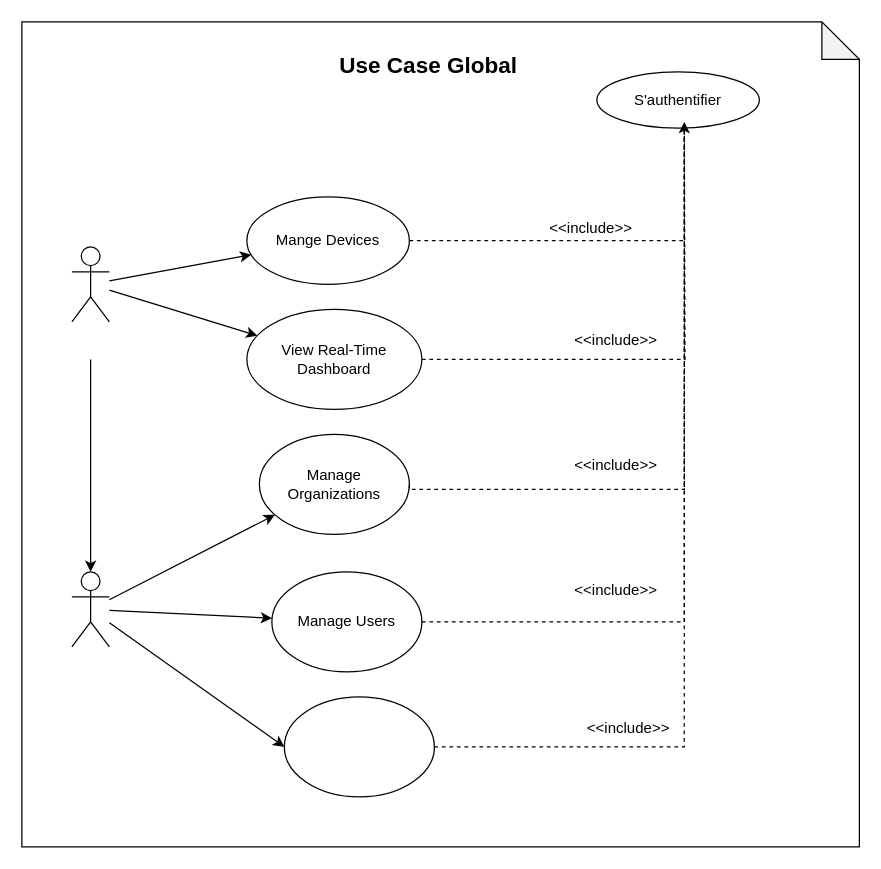
The diagram is 881 pixels wide and 869 high, and some of its shapes have lost their labels. Here are the shapes that lost their labels. From the top down, the box of each, then its label:
(71, 246, 109, 322): Client
(71, 571, 109, 647): Admin
(283, 696, 434, 797): Send Irrigation Command (Manual)
